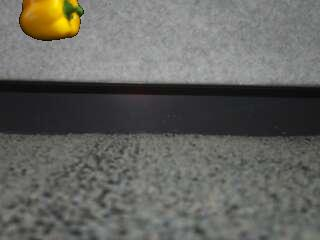Capsicum: (19, 0, 83, 41)
